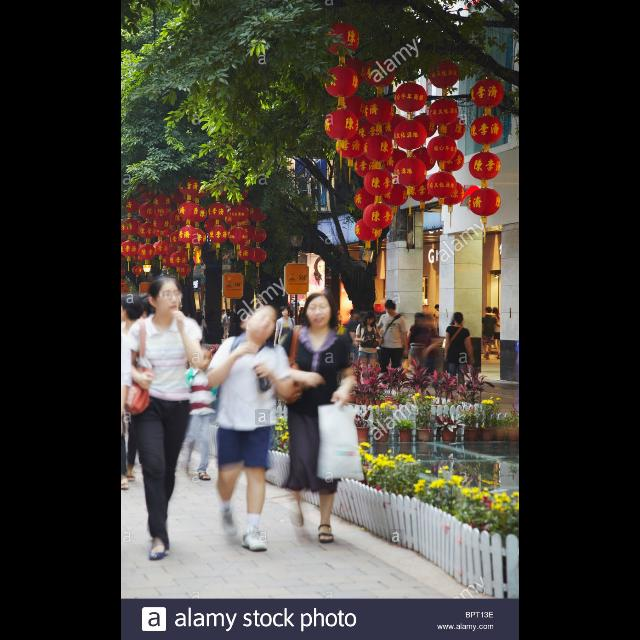head: (148, 277, 182, 317), (246, 304, 280, 342), (305, 293, 335, 329), (120, 294, 146, 322), (190, 348, 212, 370), (428, 334, 442, 350), (415, 312, 427, 326), (385, 300, 397, 314), (366, 313, 376, 327), (280, 306, 290, 318), (454, 312, 464, 324), (351, 308, 361, 320), (452, 316, 462, 326), (486, 308, 494, 314), (436, 304, 442, 312), (493, 308, 499, 314)
person: (201, 300, 299, 556), (124, 274, 206, 566), (272, 288, 362, 548), (176, 342, 226, 483), (120, 294, 152, 492), (378, 298, 410, 399), (443, 311, 477, 403), (420, 332, 452, 413), (354, 310, 384, 396), (272, 305, 300, 385), (406, 310, 434, 388), (448, 315, 472, 393), (479, 306, 505, 360), (486, 305, 506, 361), (345, 308, 363, 364), (433, 303, 445, 345)
